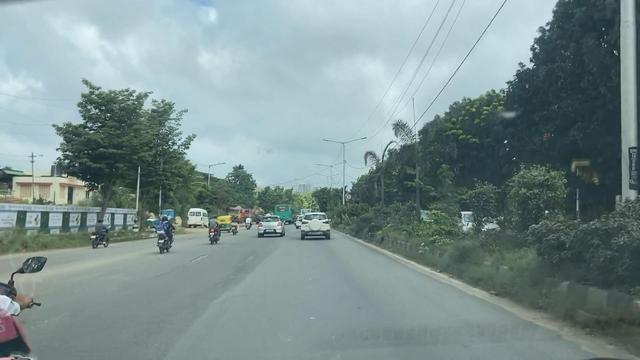LMV: (153, 207, 182, 256), (295, 209, 331, 241), (251, 210, 285, 241), (89, 214, 115, 252), (207, 213, 225, 248)
